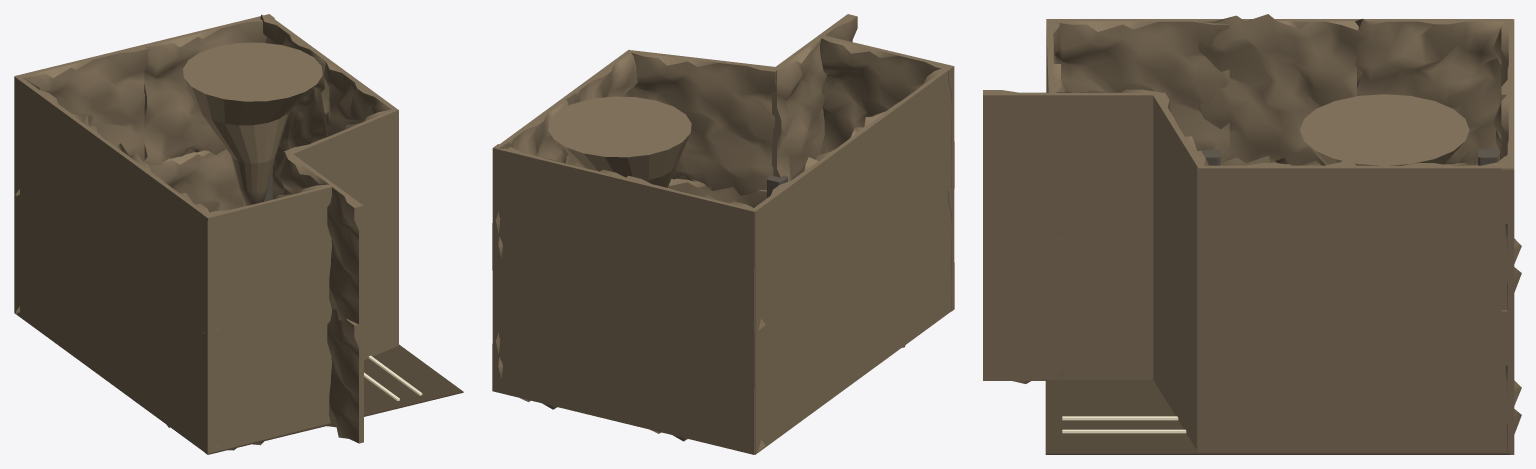
File: mine level.fbx
3 views of the same model, side by side, from view 1: azimuth 30°, elevation 25°; view 2: azimuth 150°, elevation 25°; view 3: azimuth 270°, elevation 25° (orthographic). The views are drawn at different scales.
Visible parts, largest first — view 1: pCube31 (×2), pCube2 (×2), pCube7 (×2), pCube33 (×2), stelagtite, pCube8 (×2), pCube32 (×2), pCube34 (×2), pCube4, Ground, pCube3 (×2), pCube12; view 2: pCube4 (×2), pCube8 (×2), pCube7 (×2), pCube2 (×2), pCube33 (×2), pCube32 (×2), stelagtite, pCube31 (×2), pCube34, pCube12, pCube3; view 3: pCube34 (×2), pCube12 (×2), pCube3 (×2), pCube7, pCube33, pCube32 (×2), pCube2, Ground, stelagtite, pCube8 (×2), pCube4, pCube31 (+2 smaller).
Boxes of the visible parts, x1,y1,x2,y2 form: pCube31 (×2): (202,184,333,454); pCube2 (×2): (14,75,88,359); pCube7 (×2): (79,123,149,408); pCube33 (×2): (143,162,218,452); stelagtite: (183,42,322,205); pCube8 (×2): (142,14,274,212); pCube32 (×2): (283,109,396,359); pCube34 (×2): (279,152,363,443); pCube4: (15,45,147,195); Ground: (208,344,463,454); pCube3 (×2): (260,14,333,199); pCube12: (323,62,398,229); pCube4 (×2): (622,175,765,454); pCube8 (×2): (492,144,625,422); pCube7 (×2): (815,112,889,405); pCube2 (×2): (751,157,822,454); pCube33 (×2): (873,66,951,356); pCube32 (×2): (631,50,777,207); stelagtite: (548,96,691,187); pCube31 (×2): (820,35,954,311); pCube34: (772,14,857,181); pCube12: (562,50,637,165); pCube3: (494,98,568,258); pCube34 (×2): (983,89,1160,383); pCube12 (×2): (1198,156,1356,452); pCube3 (×2): (1355,156,1521,452); pCube7: (1198,14,1363,165); pCube33: (1051,19,1229,150); pCube32 (×2): (1152,92,1209,450); pCube2: (1355,19,1513,165); Ground: (1045,379,1509,454); stelagtite: (1300,94,1469,165); pCube8 (×2): (1493,94,1514,454); pCube4: (1493,19,1514,159); pCube31: (1046,19,1068,235).
Bounding box in the file's own units: 54.39 × 49.83 × 80.85.
